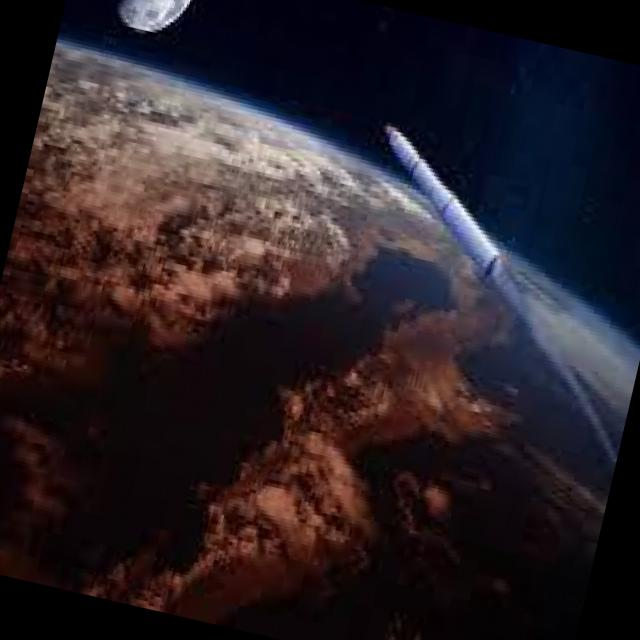rocket: (337, 114, 582, 358)
